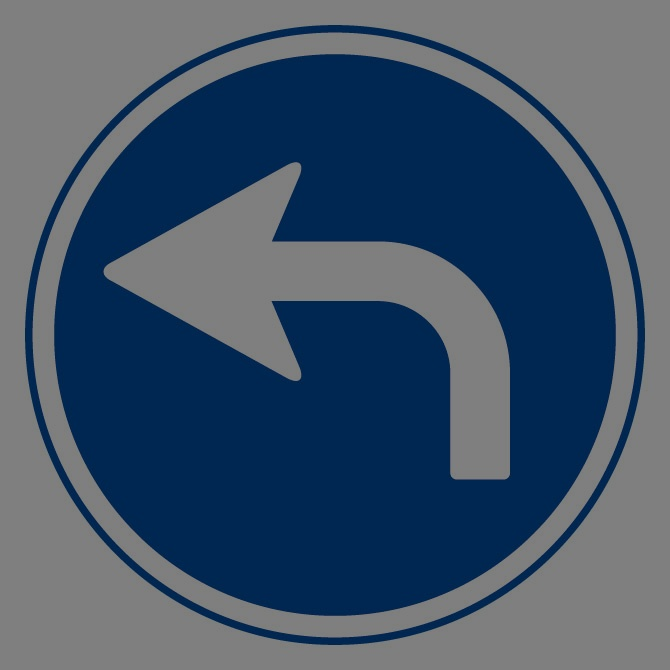Direction_sign: (1, 1, 647, 652)
